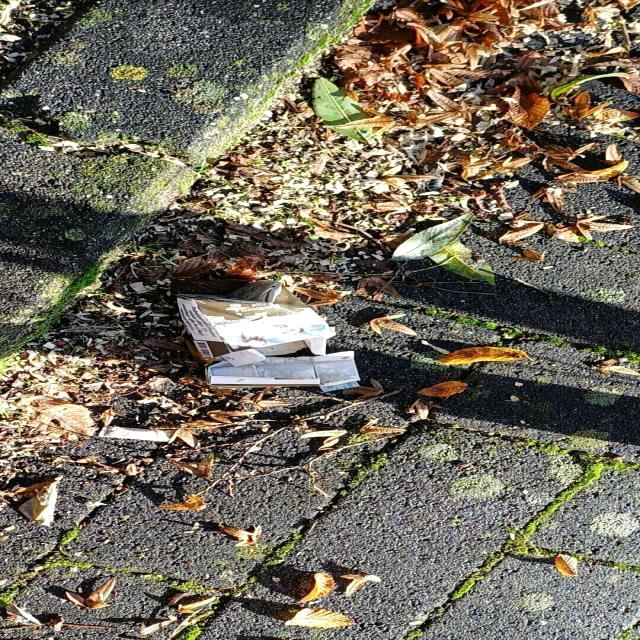Paper: (170, 292, 364, 394)
